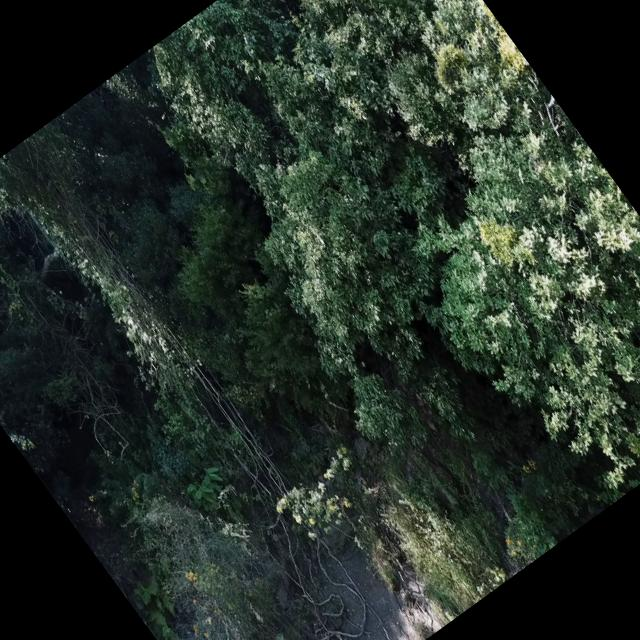Mysore-Thorn-Weed: (176, 454, 239, 518)
